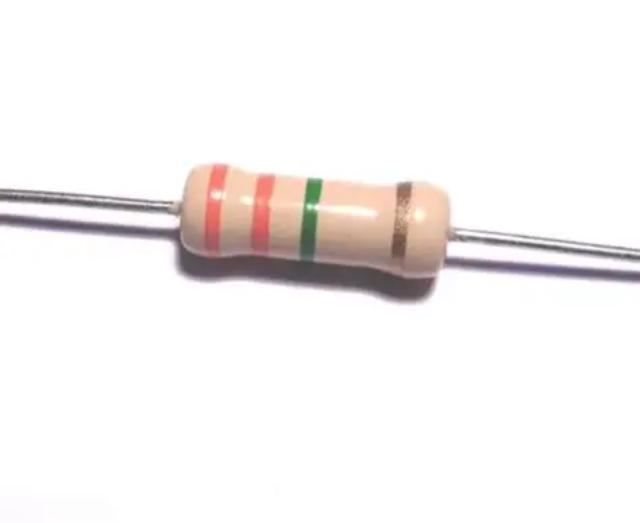gold: (387, 181, 410, 277)
green: (297, 178, 325, 264)
orange: (248, 173, 277, 257), (205, 163, 230, 258)
resistor: (162, 157, 463, 289)
